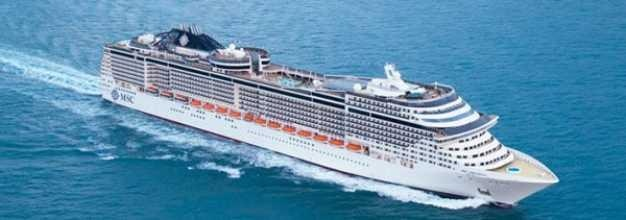youlun: (97, 20, 575, 213)
